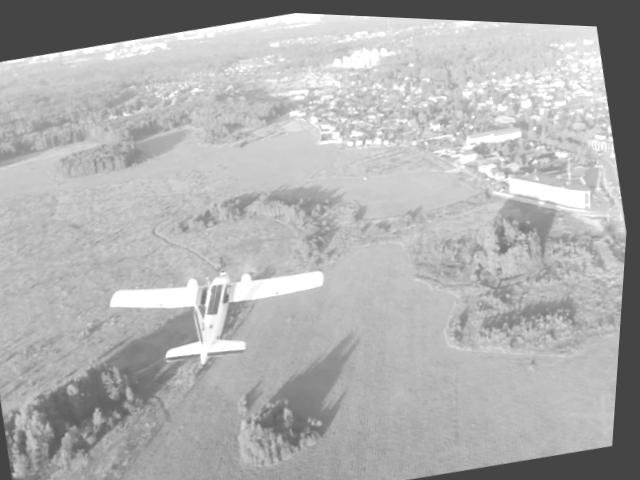hedef: (103, 240, 350, 395)
